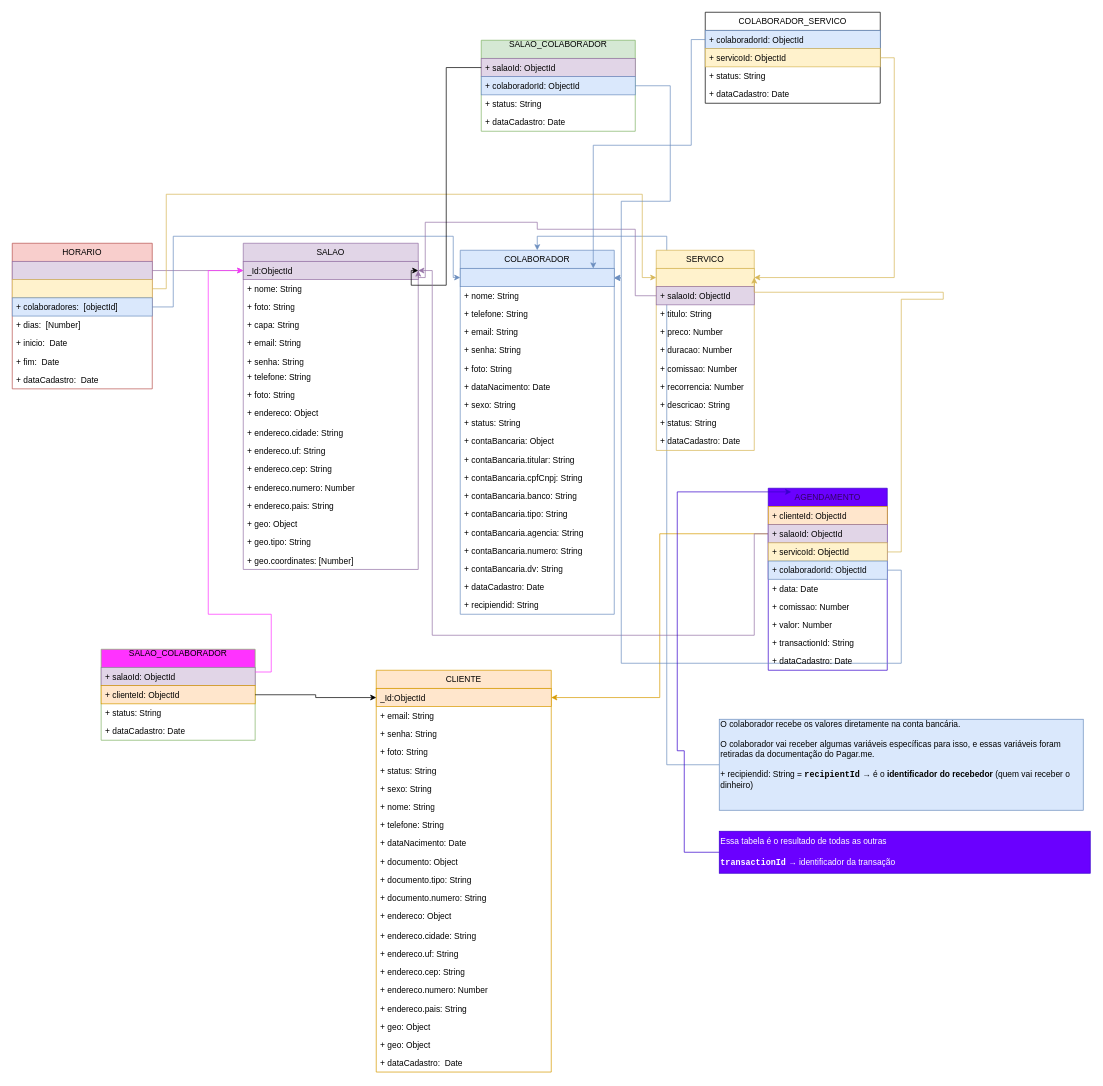
The diagram is 1103 pixels wide and 1086 high, and some of its shapes have lost their labels. Here are the shapes that lost their labels. From the top down, the centre of each, then its label:
At pixel 82 270: "+ salaoId: Obectid".
At pixel 82 288: "+ especialidade: [objectId]".
At pixel 537 277: "+ _id: Objectid".
At pixel 705 277: "+ _od: ObjectId".
